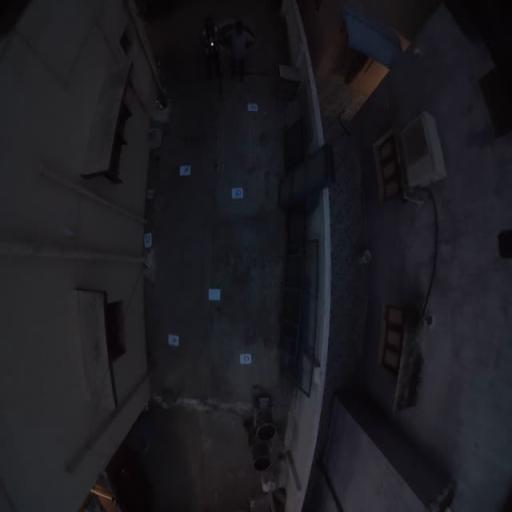A: (167, 335, 179, 346)
B: (208, 289, 221, 301)
C: (239, 354, 252, 365)
D: (144, 232, 153, 248)
E: (248, 102, 258, 112)
F: (179, 165, 191, 177)
G: (231, 188, 244, 199)
